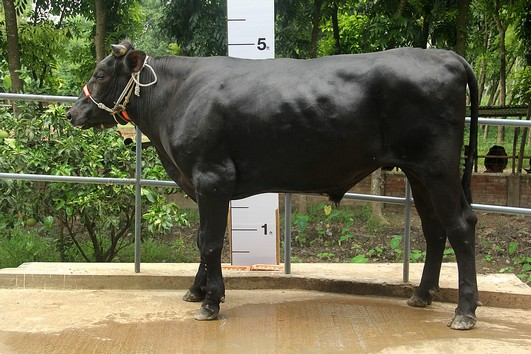cow: (66, 30, 490, 334)
